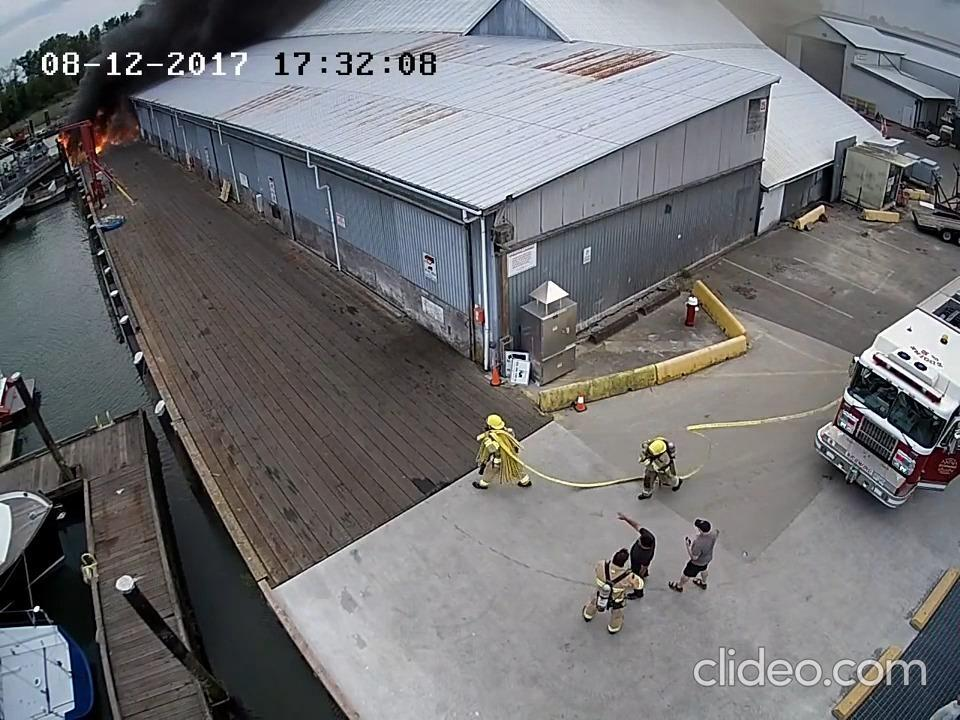fire: (90, 121, 123, 155), (52, 133, 75, 152)
